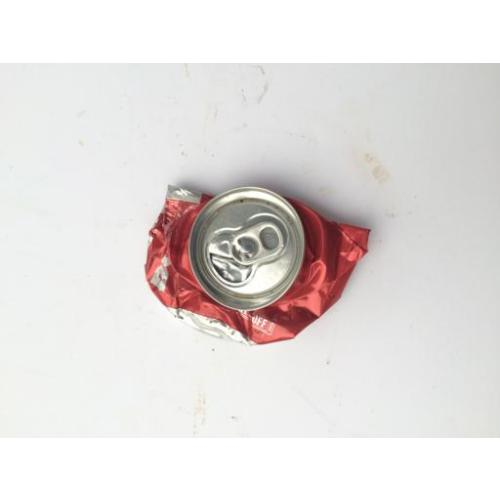metal: (144, 184, 366, 341)
